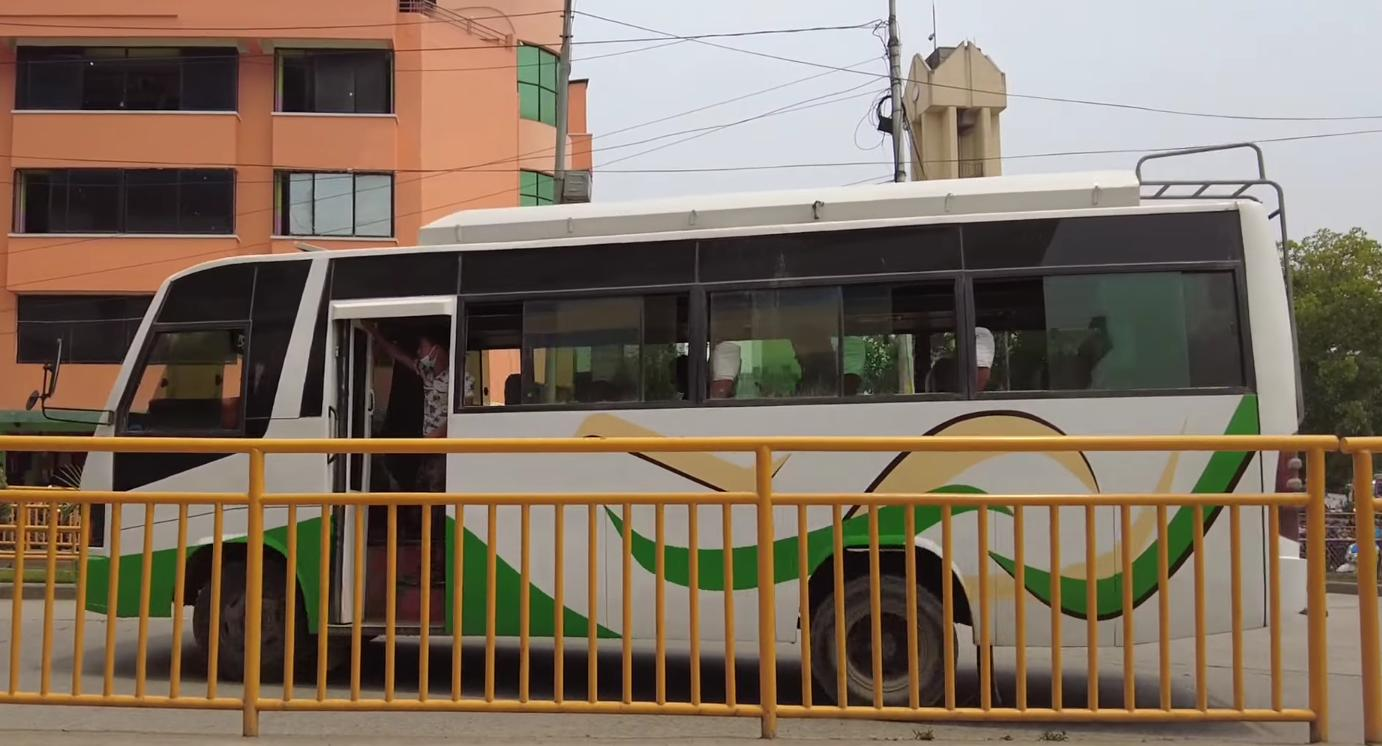bus: (84, 156, 1318, 698)
